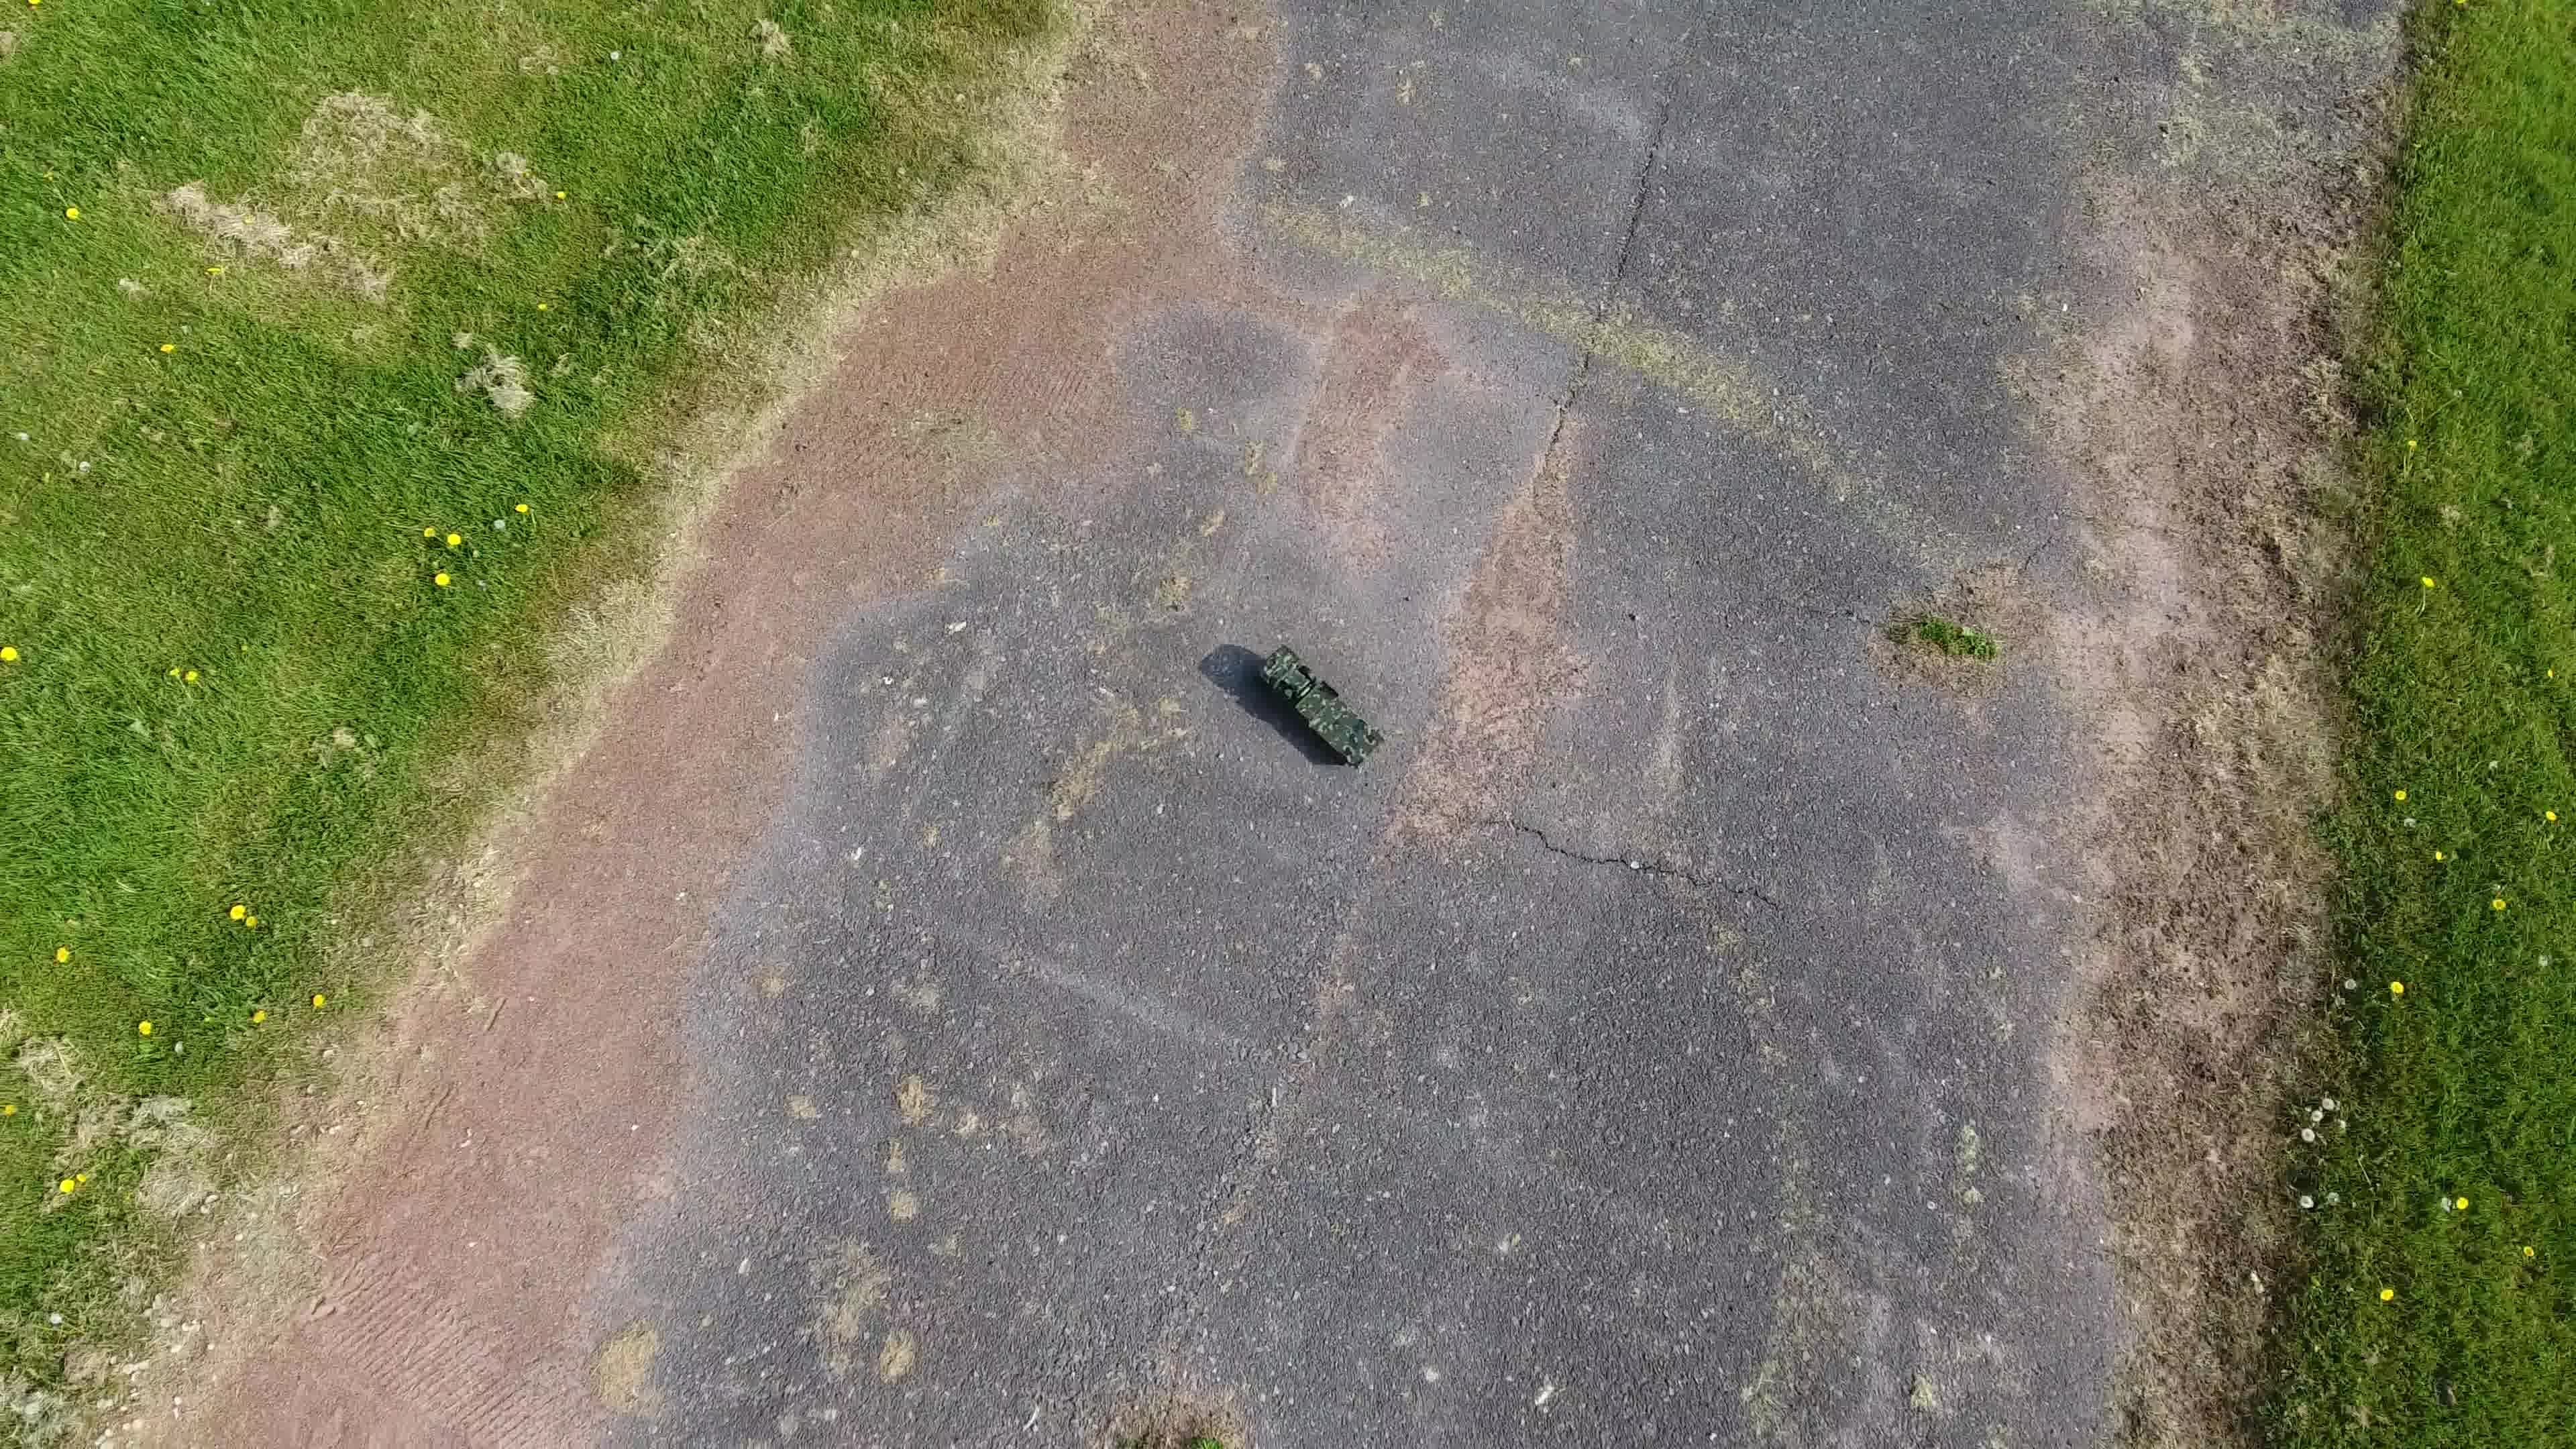transporter9_camo: (1253, 642, 1387, 775)
